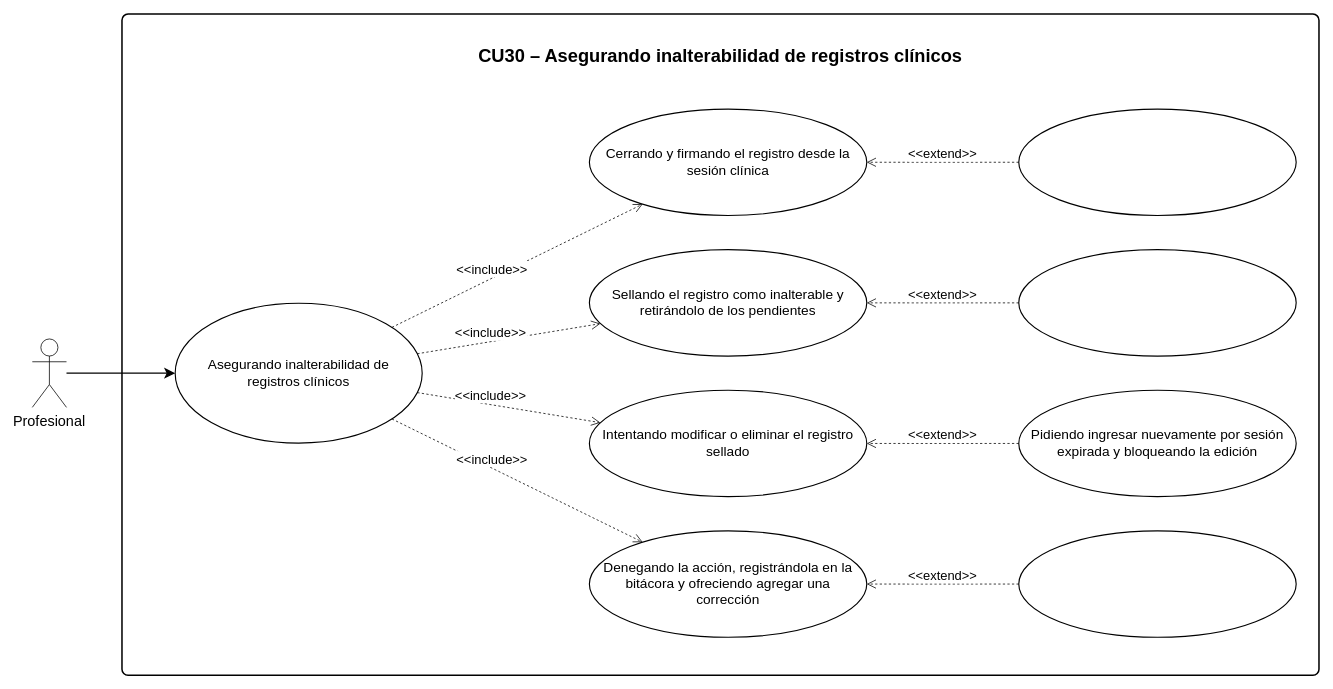
This 1333x689 diagram has some shape labels left out. Here are the shapes that lost their labels. From the top down, the centre of each, then its label:
At [1157,162]: "Bloqueando el sellado por falta de registro profesional".
At [1157,302]: "Manteniendo el registro abierto por fallo al sellar".
At [1157,583]: "Guardando alerta crítica por intento de borrar la bitácora".
